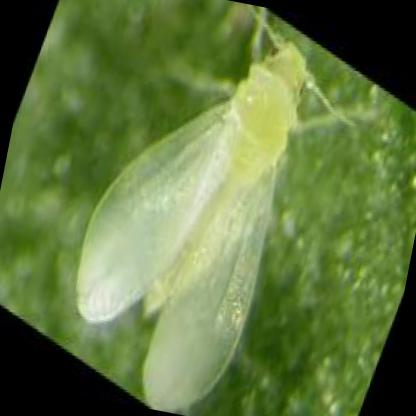whitefly: (77, 39, 307, 406)
